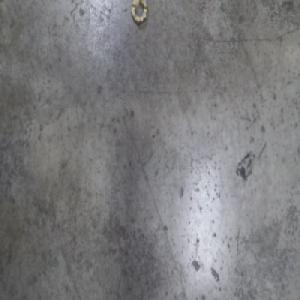Nut: (130, 0, 148, 28)
